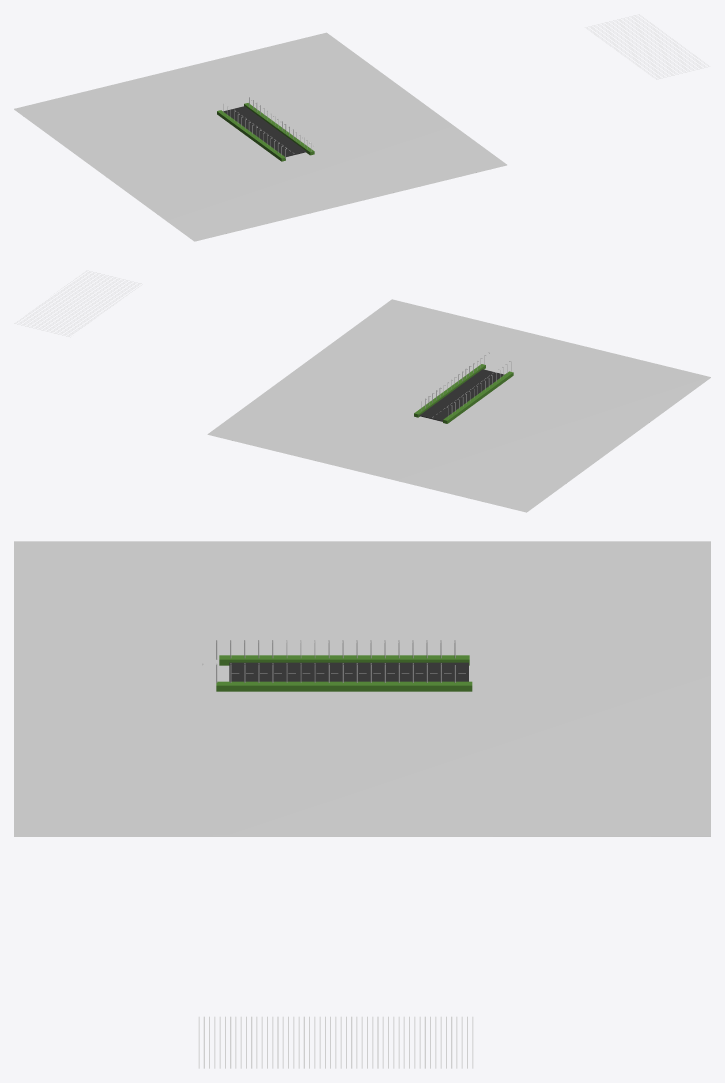
The model's file is 3rd-road.fbx.
The picture shows the model from 3 angles, top to bottom: view 1: azimuth 30°, elevation 25°; view 2: azimuth 150°, elevation 25°; view 3: azimuth 270°, elevation 25°; orthographic projection. The views are drawn at different scales.
Parts seen in each view (by area): view 1: Cube, Plane.002, Cube.001, Cube.004, Cube.005; view 2: Cube, Plane.002, Cube.001, Cube.004, Cube.005; view 3: Cube, Cube.001, Plane.002, Cube.005, Cube.004.
Part boxes in pixels (x1,y1,x2,y2): Cube: (14, 32, 506, 241); Plane.002: (585, 14, 709, 79); Cube.001: (223, 106, 306, 156); Cube.004: (217, 110, 285, 161); Cube.005: (244, 103, 314, 155); Cube: (207, 299, 710, 512); Plane.002: (14, 270, 142, 337); Cube.001: (419, 369, 504, 421); Cube.004: (443, 371, 513, 423); Cube.005: (414, 364, 485, 417); Cube: (14, 541, 710, 836); Cube.001: (229, 662, 468, 681); Plane.002: (198, 1016, 473, 1068); Cube.005: (216, 681, 472, 691); Cube.004: (219, 655, 469, 665).
Size of the model in its own units: 263 by 8.66 by 146.
